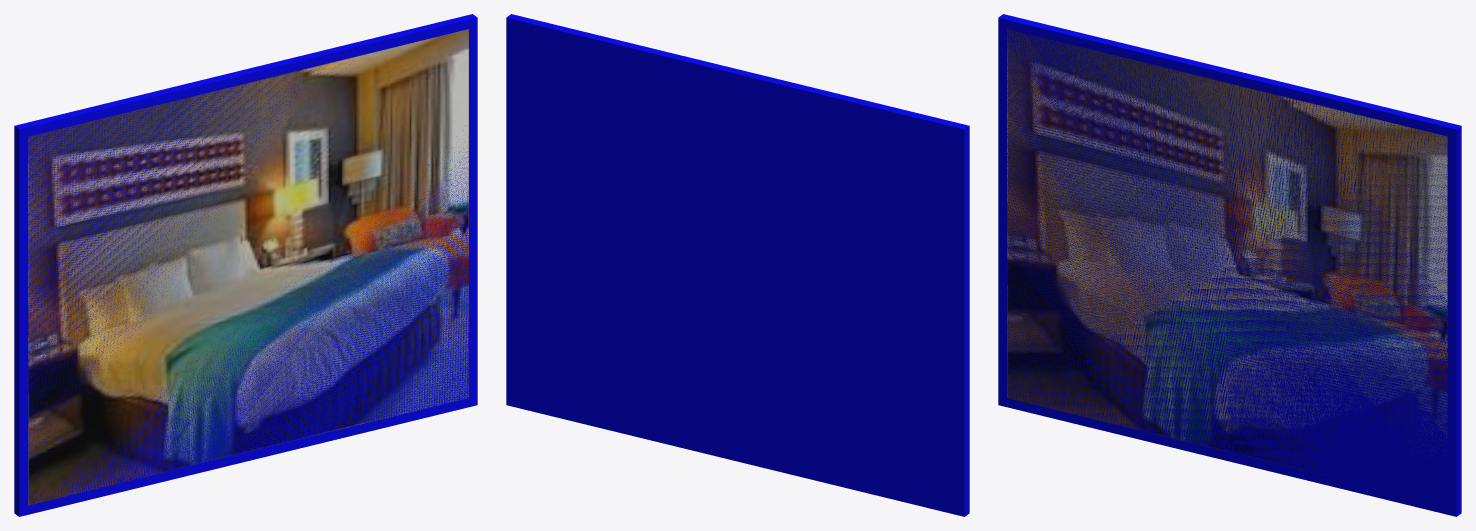
3 views of the same model, side by side, from view 1: azimuth 30°, elevation 25°; view 2: azimuth 150°, elevation 25°; view 3: azimuth 330°, elevation 25° (orthographic).
Parts seen in each view (by area): view 1: PhotoPlane; view 2: PhotoPlane; view 3: PhotoPlane.
Boxes of the visible parts, left/top/right/bottom form: PhotoPlane: left=14, top=14, right=477, bottom=516; PhotoPlane: left=506, top=14, right=969, bottom=516; PhotoPlane: left=998, top=14, right=1461, bottom=516.
Bounding box in the file's own units: 52 × 42 × 1.
2 materials, 1 textured.
